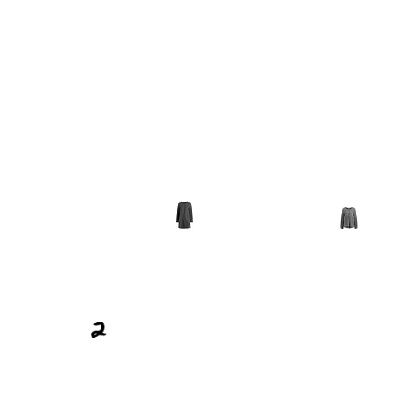2: (87, 319, 109, 341)
Coat: (170, 201, 198, 229)
Shirt: (338, 207, 360, 229)
